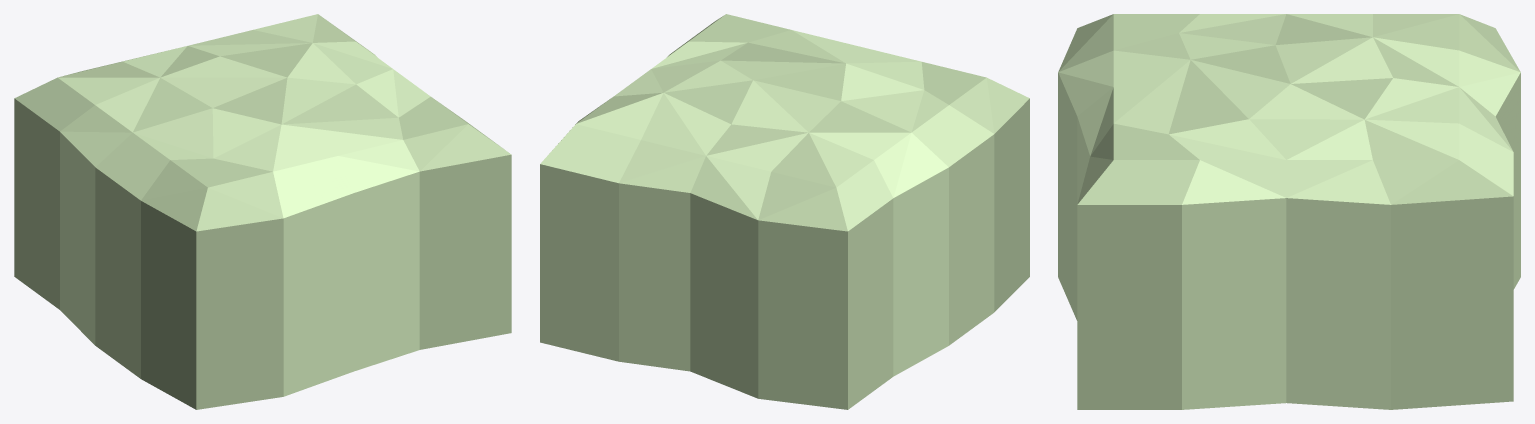
Rendered from Hill.fbx.
The picture shows the model from 3 angles, left to right: view 1: azimuth 30°, elevation 25°; view 2: azimuth 150°, elevation 25°; view 3: azimuth 270°, elevation 25°; orthographic projection. The views are drawn at different scales.
Visible parts, largest first — view 1: Hill; view 2: Hill; view 3: Hill.
Boxes of the visible parts, left/top/right/bottom form: Hill: left=14, top=14, right=511, bottom=409; Hill: left=540, top=14, right=1029, bottom=409; Hill: left=1058, top=14, right=1520, bottom=409.
Size of the model in its own units: 62.42 by 40.28 by 66.93.
